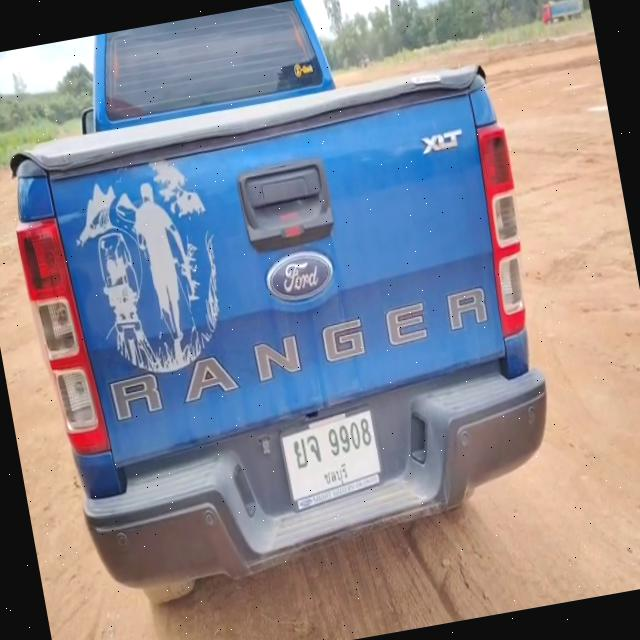Digit: (326, 416, 374, 459)
Licenseplate: (276, 406, 386, 509)
Provincename: (319, 459, 352, 489)
Thaichar: (289, 429, 322, 469)
